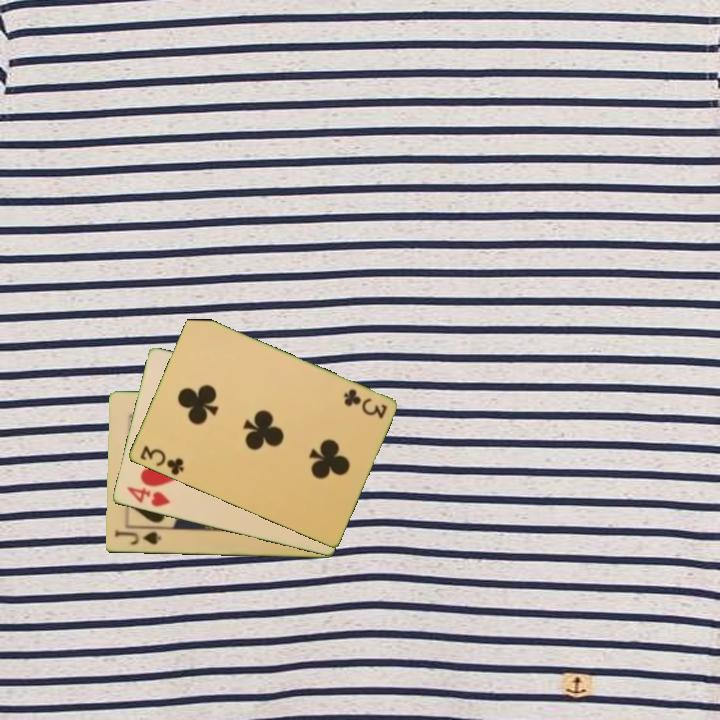3c: (136, 442, 187, 479), (339, 385, 390, 421)
4h: (122, 483, 173, 510)
Js: (111, 527, 163, 548)
